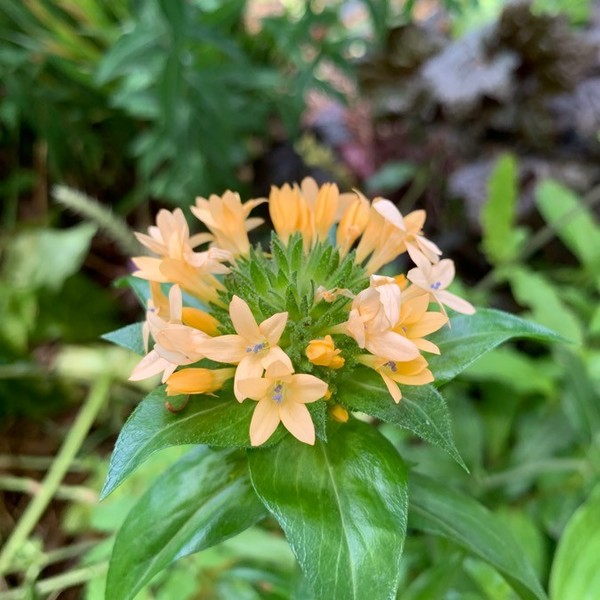obstacle: (97, 159, 502, 539)
